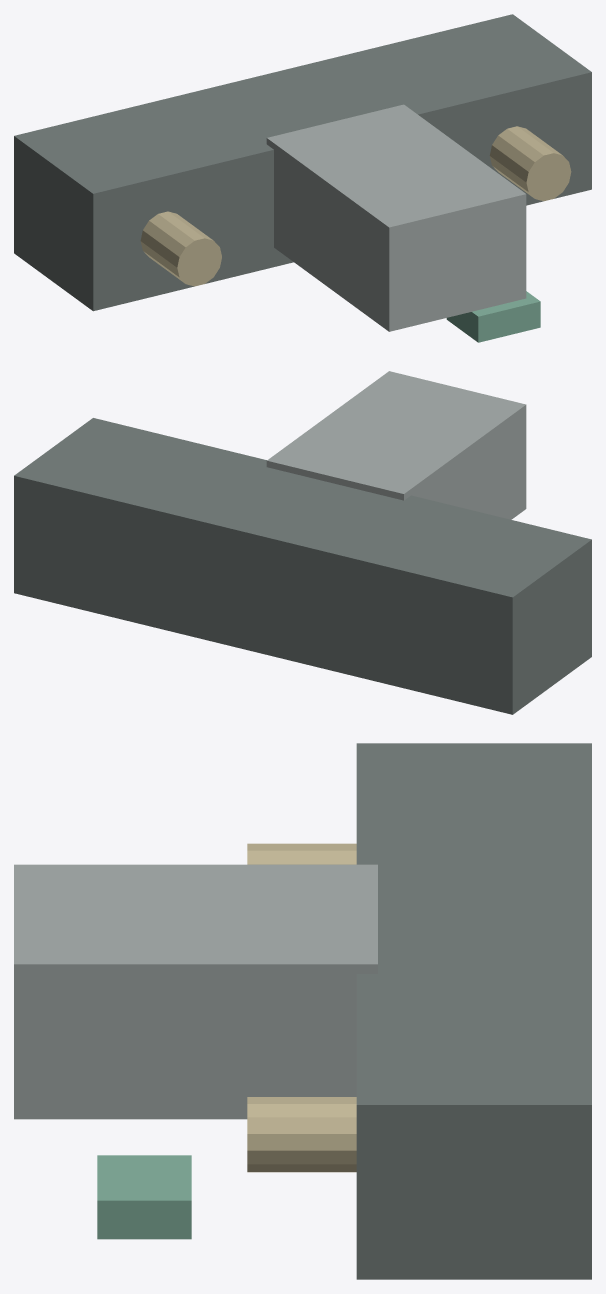
Rendered from filling-line-eco.glb.
3 renders of one model, top to bottom at view 1: azimuth 30°, elevation 25°; view 2: azimuth 150°, elevation 25°; view 3: azimuth 270°, elevation 25°, orthographic. The views are drawn at different scales.
Visible parts, largest first — view 1: conveyor, filler, bottle-0, bottle-2, screen; view 2: conveyor, filler; view 3: conveyor, filler, bottle-2, screen, bottle-0.
Boxes of the visible parts, x1=… form: conveyor: x1=14, y1=14, x2=591, y2=311; filler: x1=266, y1=104, x2=526, y2=331; bottle-0: x1=140, y1=211, x2=221, y2=286; bottle-2: x1=489, y1=126, x2=571, y2=201; screen: x1=446, y1=291, x2=540, y2=342; conveyor: x1=14, y1=418, x2=591, y2=714; filler: x1=266, y1=371, x2=526, y2=519; conveyor: x1=356, y1=743, x2=591, y2=1279; filler: x1=14, y1=864, x2=377, y2=1119; bottle-2: x1=247, y1=1097, x2=356, y2=1172; screen: x1=97, y1=1155, x2=191, y2=1239; bottle-0: x1=247, y1=843, x2=356, y2=864.
Size of the model in its own units: 2 by 0.63 by 1.35.
